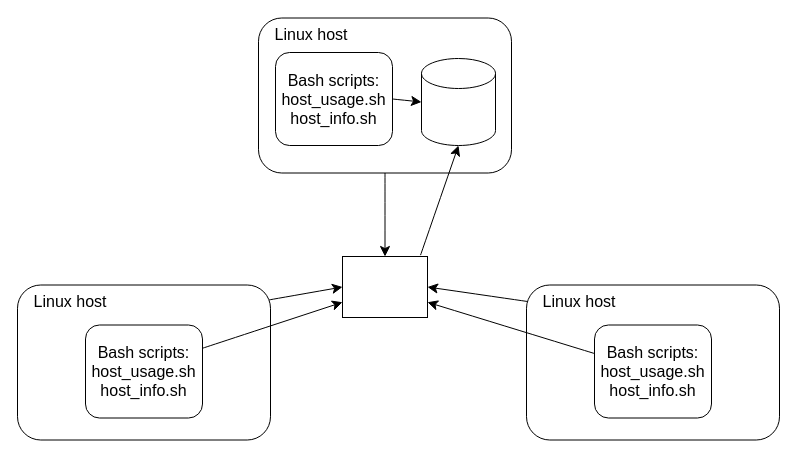
Some shapes in this 797 by 457 pixel diagram are drawn without their labels. Here are the shapes that lost their labels. From the top down, the box of each, then its label:
(420, 58, 496, 146): database
(342, 256, 428, 318): Network Switch
